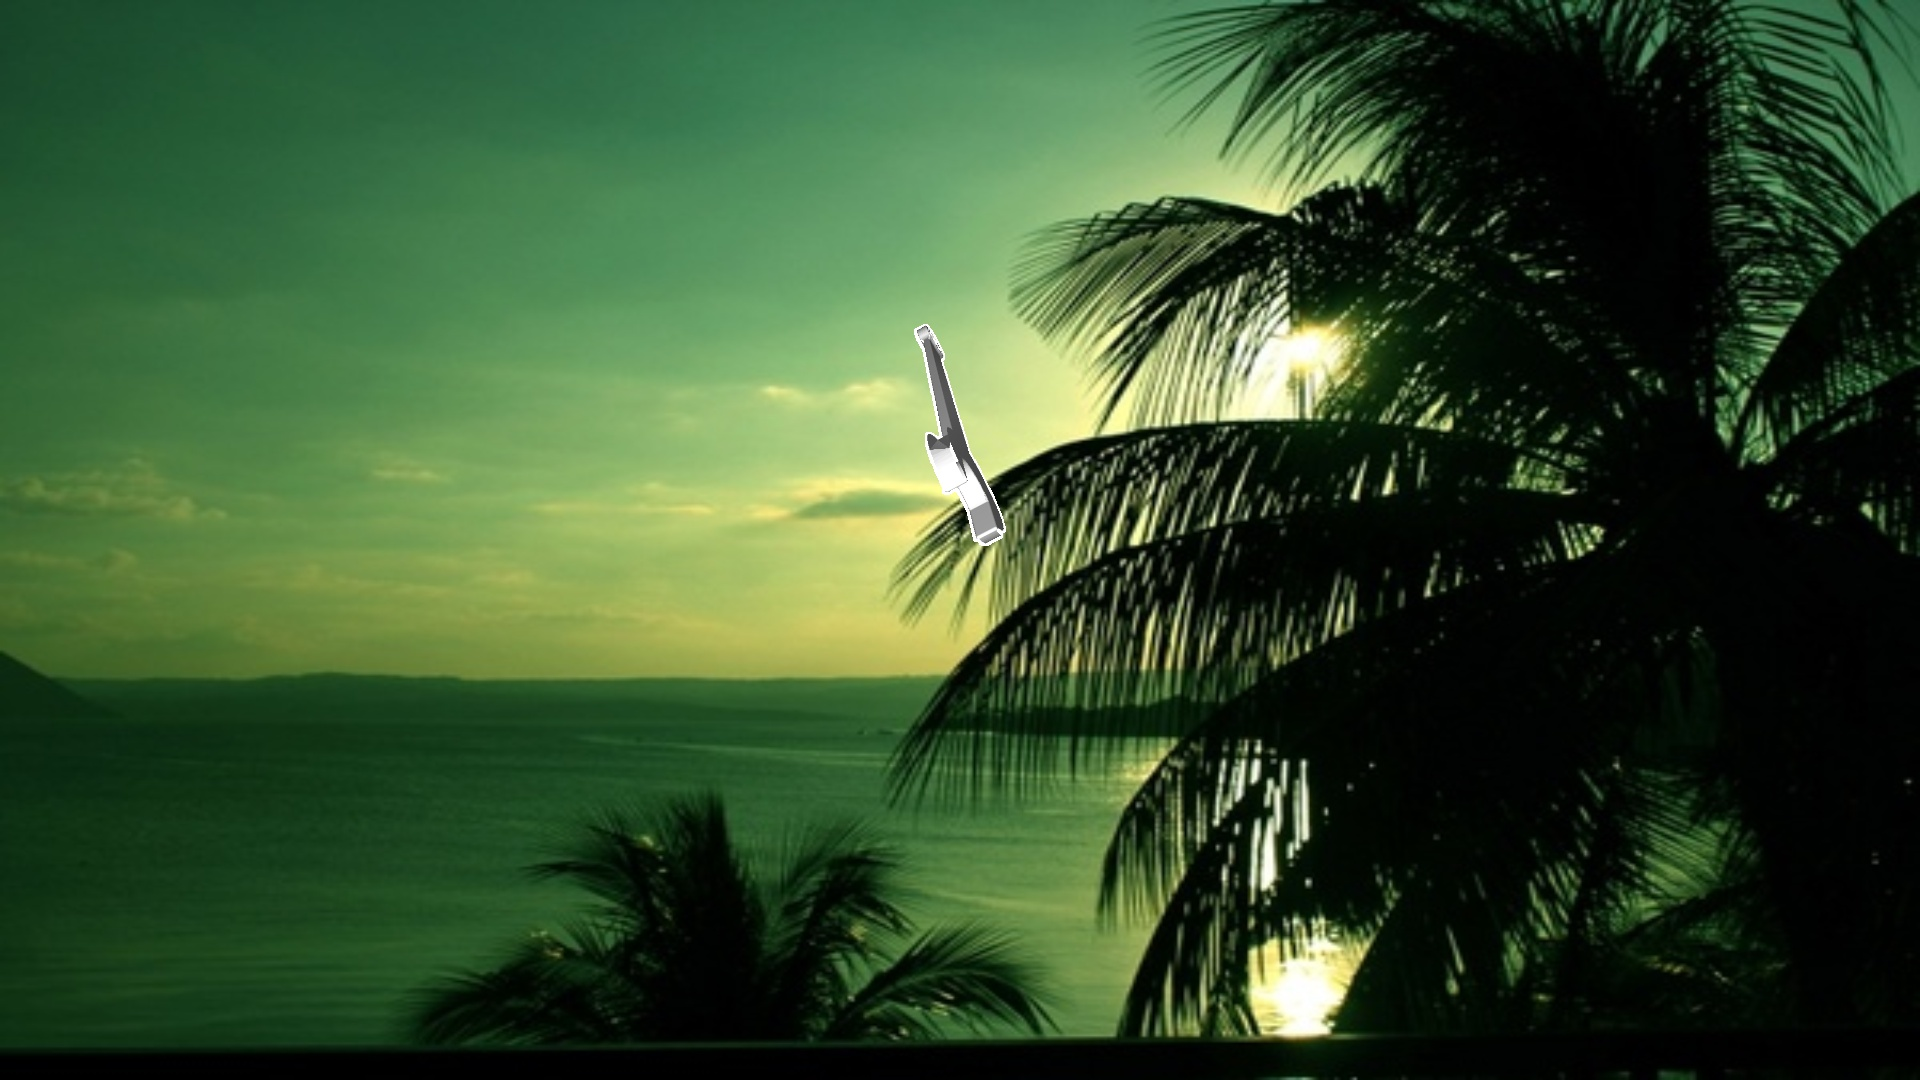Mixed Key: (914, 324, 1005, 545)
